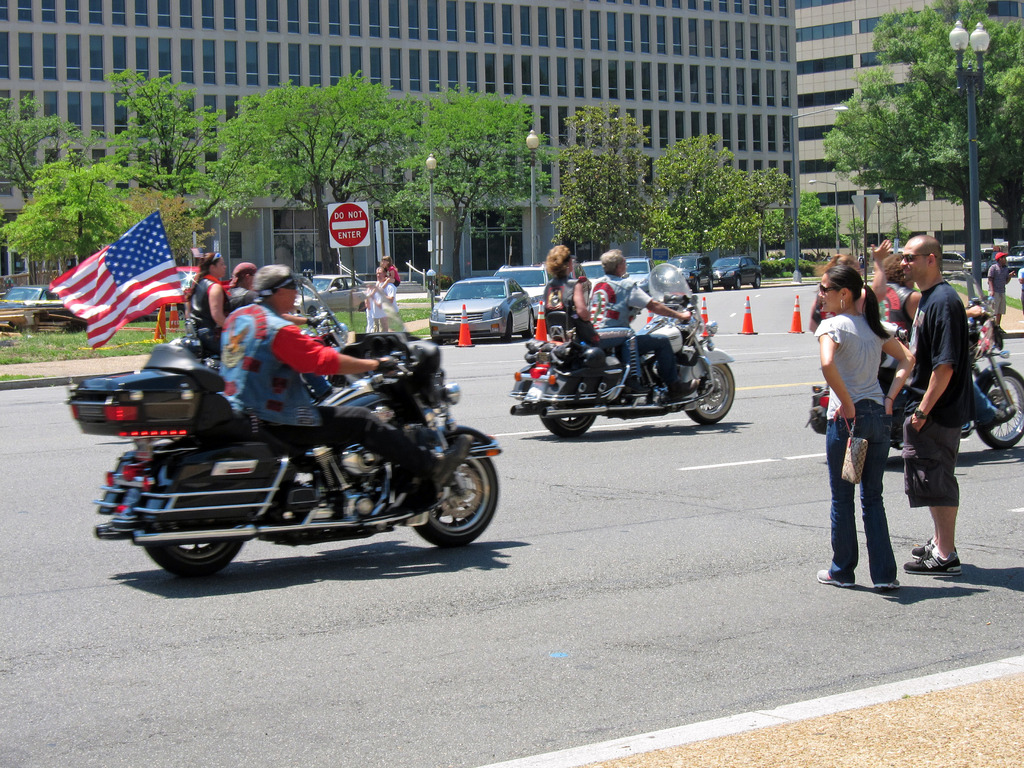Car: (429, 274, 529, 341), (663, 251, 716, 299), (712, 251, 764, 289), (626, 258, 651, 299)
